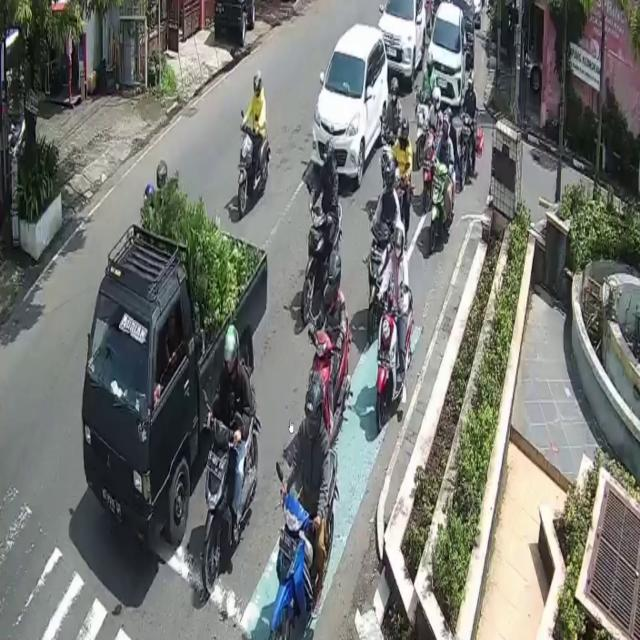car: (82, 198, 268, 543), (314, 21, 387, 182), (424, 1, 466, 109), (379, 0, 426, 89)
motorbike: (269, 445, 339, 640), (204, 390, 257, 597), (300, 199, 342, 325), (309, 326, 349, 434), (364, 216, 396, 346), (377, 308, 401, 454), (239, 122, 270, 216), (429, 161, 449, 251)
